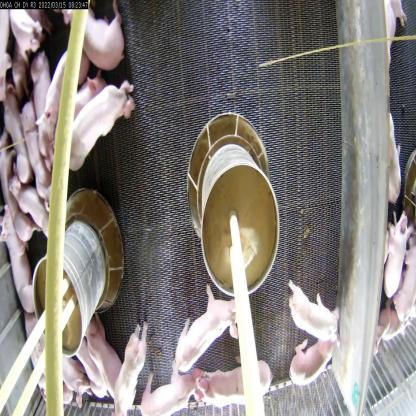Pig: (65, 80, 137, 175), (171, 282, 245, 372), (38, 46, 90, 150), (281, 274, 343, 346), (58, 5, 126, 70), (0, 204, 39, 314), (20, 104, 56, 222), (26, 314, 71, 406), (195, 361, 277, 411), (84, 313, 127, 399), (109, 320, 147, 416), (11, 173, 54, 250), (138, 362, 200, 415), (4, 91, 34, 184), (28, 51, 55, 152), (286, 332, 337, 383), (57, 348, 91, 408), (79, 340, 108, 408), (68, 73, 106, 121), (12, 9, 44, 62), (387, 203, 404, 300)
